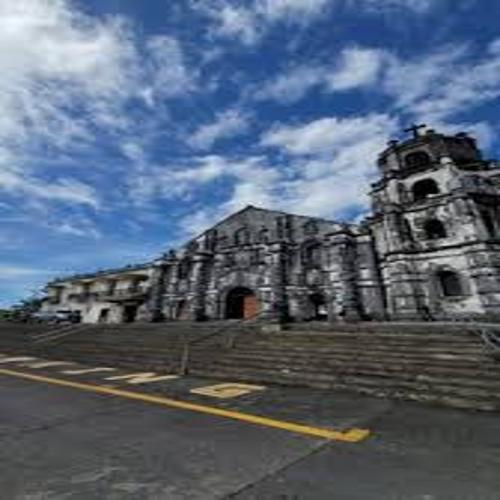Daraga Church: (151, 117, 500, 328)
